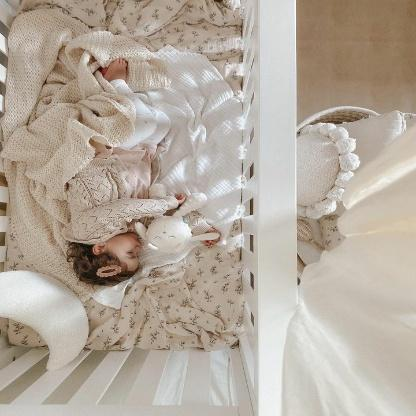baby: (63, 57, 187, 290)
